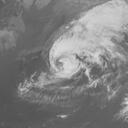cyclone: (48, 18, 120, 80)
